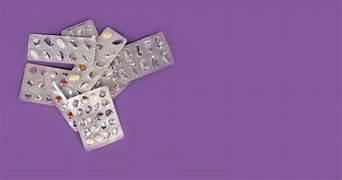pill_Strip: (49, 33, 173, 129), (94, 32, 173, 97), (55, 28, 126, 98), (98, 33, 173, 96), (54, 86, 123, 150), (63, 28, 126, 92), (19, 63, 76, 130), (20, 71, 80, 130), (68, 86, 123, 150), (78, 86, 123, 149), (114, 32, 173, 80), (85, 27, 126, 86), (124, 33, 173, 76), (19, 63, 69, 105), (27, 34, 95, 63), (52, 79, 80, 131), (53, 79, 78, 131), (51, 81, 77, 131), (93, 62, 129, 98), (95, 27, 126, 68), (52, 81, 77, 131), (93, 62, 128, 97), (94, 61, 127, 89), (54, 70, 81, 98), (61, 19, 98, 39), (61, 19, 97, 38), (61, 20, 98, 38), (22, 89, 53, 105)
